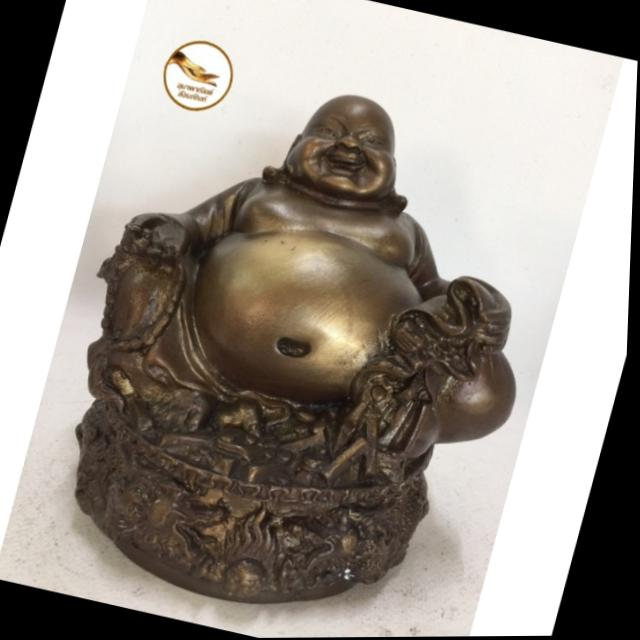Smiling Buddha: (147, 60, 497, 461)
